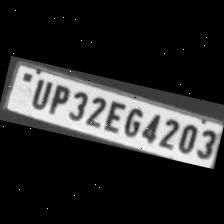0: (174, 117, 200, 154)
2: (81, 90, 107, 128), (154, 113, 180, 149)
3: (192, 121, 220, 161), (64, 84, 90, 122)
4: (138, 108, 162, 144)
E: (100, 96, 125, 132)
G: (119, 102, 145, 138)
P: (44, 79, 70, 115)
U: (25, 72, 52, 110)
